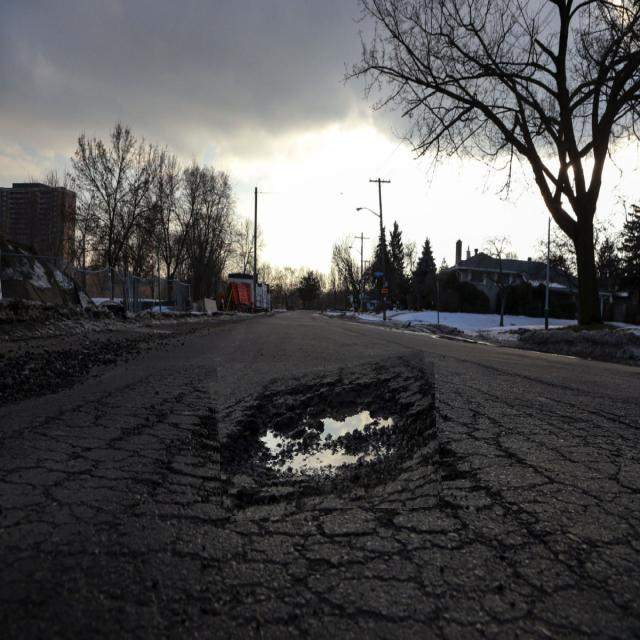Pothole: (212, 356, 439, 516)
